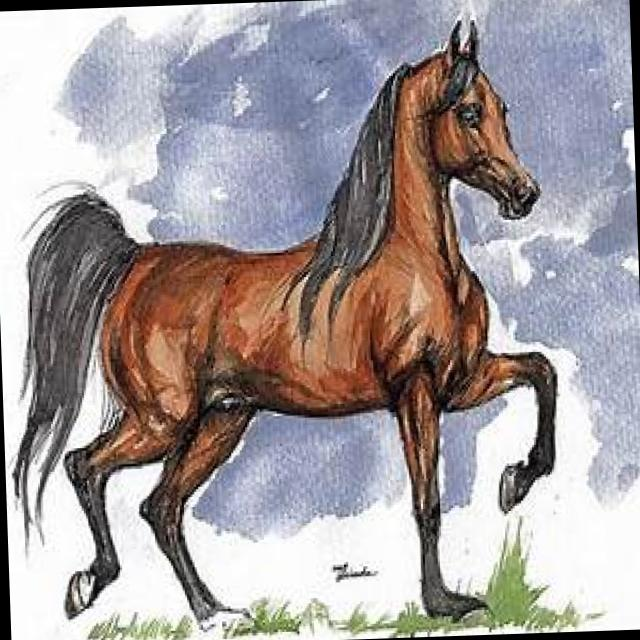horse: (0, 12, 565, 638)
